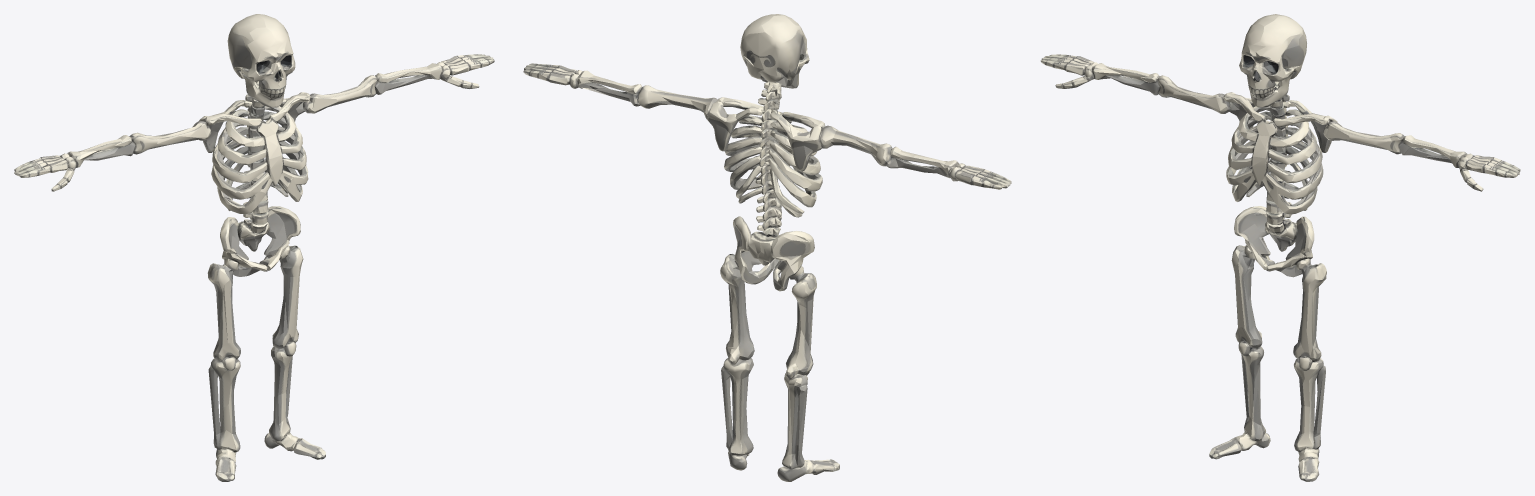
The model's file is skeleton.glb.
3 renders of one model, left to right at view 1: azimuth 30°, elevation 25°; view 2: azimuth 150°, elevation 25°; view 3: azimuth 330°, elevation 25°, orthographic.
Parts seen in each view (by area): view 1: output_unwrapped; view 2: output_unwrapped; view 3: output_unwrapped.
Part boxes in pixels (x1,y1,x2,y2): output_unwrapped: (14, 14, 494, 481); output_unwrapped: (523, 14, 1011, 481); output_unwrapped: (1040, 14, 1520, 481).
Bounding box in the file's own units: 2.03 × 1.8 × 0.2531.
1 material, 1 textured.
